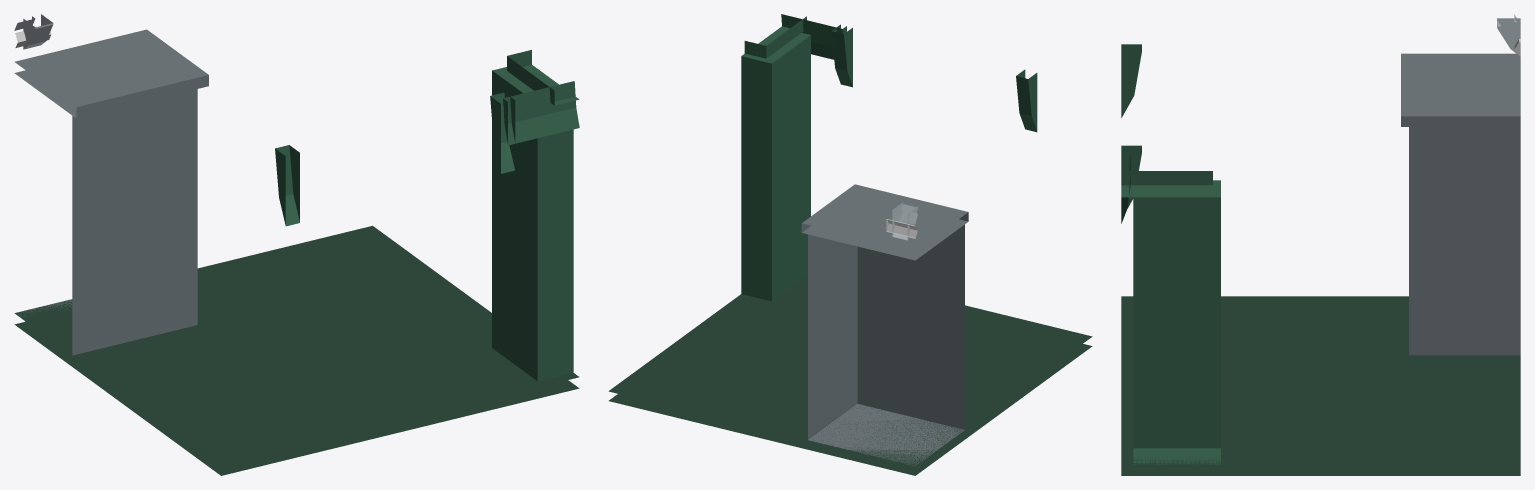
File: cell_12.obj
3 views of the same model, side by side, from view 1: azimuth 30°, elevation 25°; view 2: azimuth 150°, elevation 25°; view 3: azimuth 270°, elevation 25° (orthographic). The views are drawn at different scales.
Size of the model in its own units: 1 by 0.81 by 1.
